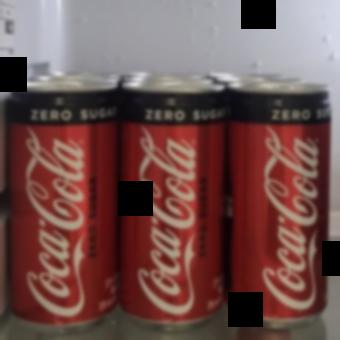cocacola_zero: (7, 81, 118, 334), (123, 80, 225, 331), (230, 82, 329, 332)
